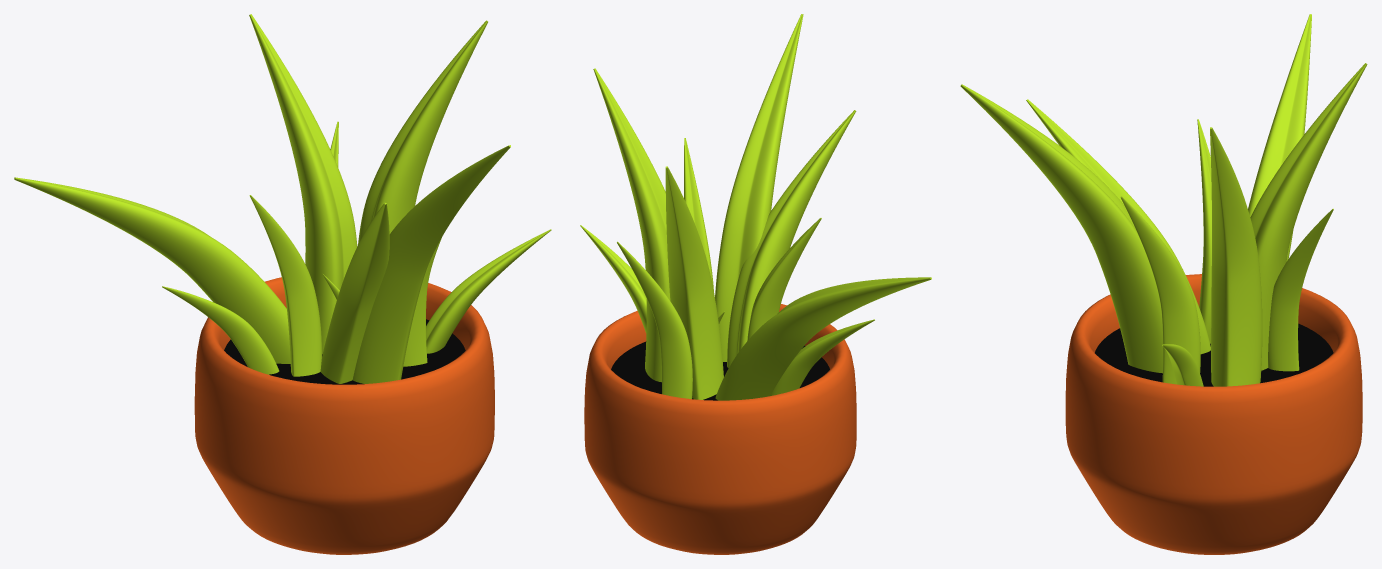
Rendered from plantpot.fbx.
The picture shows the model from 3 angles, left to right: view 1: azimuth 30°, elevation 25°; view 2: azimuth 150°, elevation 25°; view 3: azimuth 270°, elevation 25°; orthographic projection. The views are drawn at different scales.
Visible parts, largest first — view 1: Plant, NurbsPath.003, NurbsPath.008, NurbsPath.004, NurbsPath, NurbsPath.002, NurbsPath.007, NurbsPath.010, NurbsPath.009, Circle, NurbsPath.001; view 2: Plant, NurbsPath.008, NurbsPath.003, NurbsPath.004, NurbsPath.002, NurbsPath, NurbsPath.005, NurbsPath.007, NurbsPath.009, Circle, NurbsPath.010, NurbsPath.001; view 3: Plant, NurbsPath.008, NurbsPath, NurbsPath.004, NurbsPath.001, NurbsPath.003, NurbsPath.005, Circle, NurbsPath.002, NurbsPath.007, NurbsPath.010.
Part boxes in pixels (<box>): Plant: <box>194,277,494,554</box>; NurbsPath.003: <box>14,177,290,363</box>; NurbsPath.008: <box>352,145,510,383</box>; NurbsPath.004: <box>249,14,357,354</box>; NurbsPath: <box>358,20,487,244</box>; NurbsPath.002: <box>320,203,389,383</box>; NurbsPath.007: <box>249,195,321,376</box>; NurbsPath.010: <box>426,229,551,353</box>; NurbsPath.009: <box>162,286,279,374</box>; Circle: <box>224,319,465,384</box>; NurbsPath.001: <box>403,237,441,366</box>; Plant: <box>584,304,856,554</box>; NurbsPath.008: <box>715,14,803,361</box>; NurbsPath.003: <box>715,277,931,400</box>; NurbsPath.004: <box>665,166,723,399</box>; NurbsPath.002: <box>727,110,856,367</box>; NurbsPath: <box>593,68,670,382</box>; NurbsPath.005: <box>617,241,692,398</box>; NurbsPath.007: <box>747,218,821,340</box>; NurbsPath.009: <box>770,319,874,395</box>; Circle: <box>611,341,829,400</box>; NurbsPath.010: <box>580,225,646,332</box>; NurbsPath.001: <box>684,138,713,290</box>; Plant: <box>1065,274,1362,554</box>; NurbsPath.008: <box>960,84,1163,373</box>; NurbsPath: <box>1210,127,1262,386</box>; NurbsPath.004: <box>1250,63,1367,370</box>; NurbsPath.001: <box>1120,196,1200,384</box>; NurbsPath.003: <box>1248,14,1311,261</box>; NurbsPath.005: <box>1268,208,1333,371</box>; Circle: <box>1095,323,1333,386</box>; NurbsPath.002: <box>1026,99,1210,354</box>; NurbsPath.007: <box>1197,119,1211,343</box>; NurbsPath.010: <box>1162,344,1203,386</box>.
Size of the model in its own units: 190 by 183 by 146.
